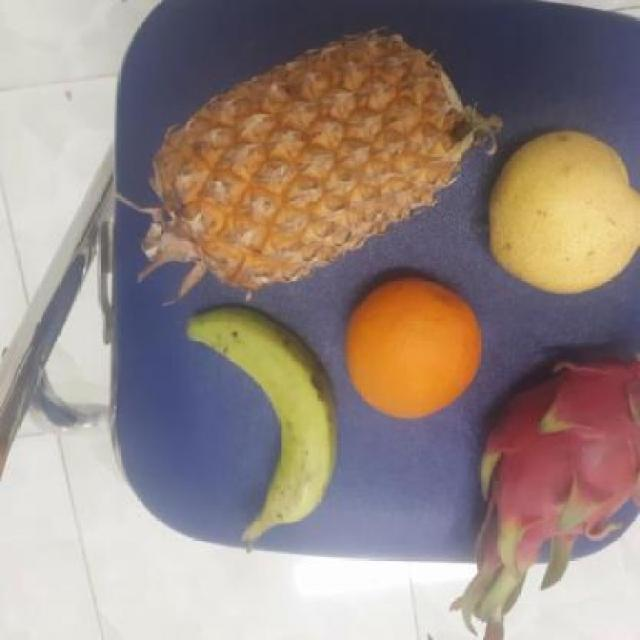banana: (193, 308, 336, 537)
dragon fruit: (466, 343, 640, 569)
oren: (339, 279, 483, 419)
pear: (475, 131, 640, 292)
pineapple: (136, 34, 476, 298)
